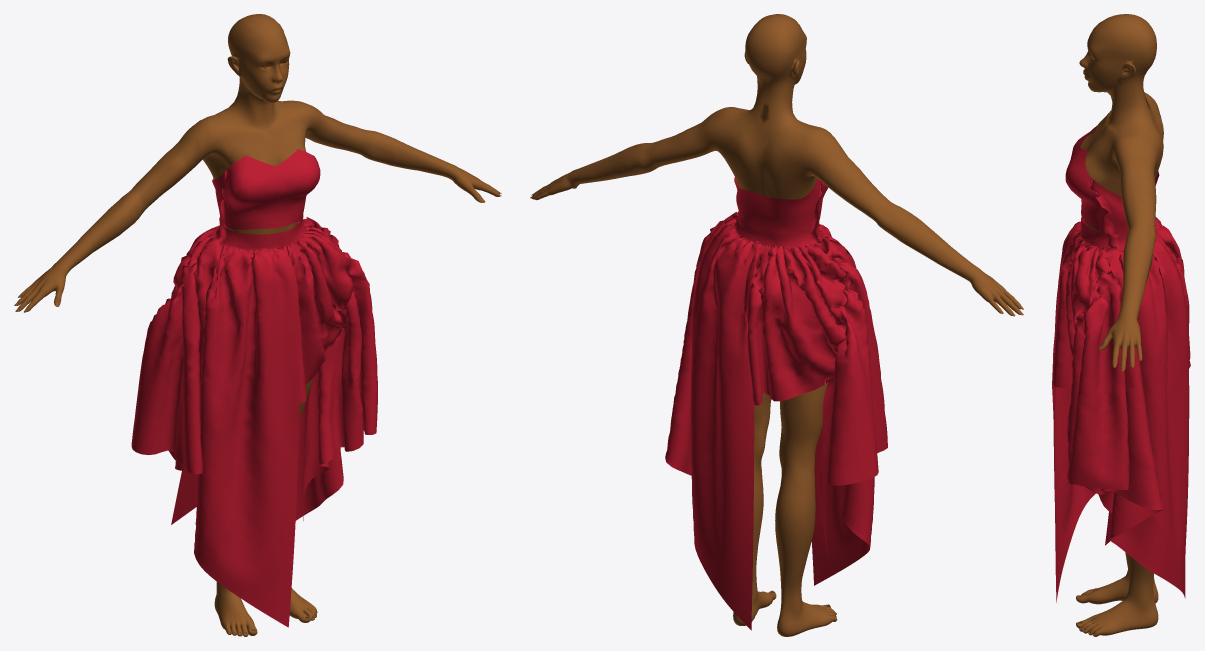
Rendered from dress2.glb.
3 views of the same model, side by side, from view 1: azimuth 30°, elevation 25°; view 2: azimuth 150°, elevation 25°; view 3: azimuth 270°, elevation 25° (orthographic).
Visible parts, largest first — view 1: Project 1, Body; view 2: Project 1, Body; view 3: Project 1, Body.
Boxes of the visible parts, bbox=[...] form: Project 1: bbox=[131, 149, 377, 627]; Body: bbox=[16, 14, 500, 636]; Project 1: bbox=[665, 177, 887, 630]; Body: bbox=[531, 14, 1021, 636]; Project 1: bbox=[1052, 126, 1190, 602]; Body: bbox=[1076, 14, 1163, 636].
Bounding box in the file's own units: 1.58 × 1.85 × 0.3878.
